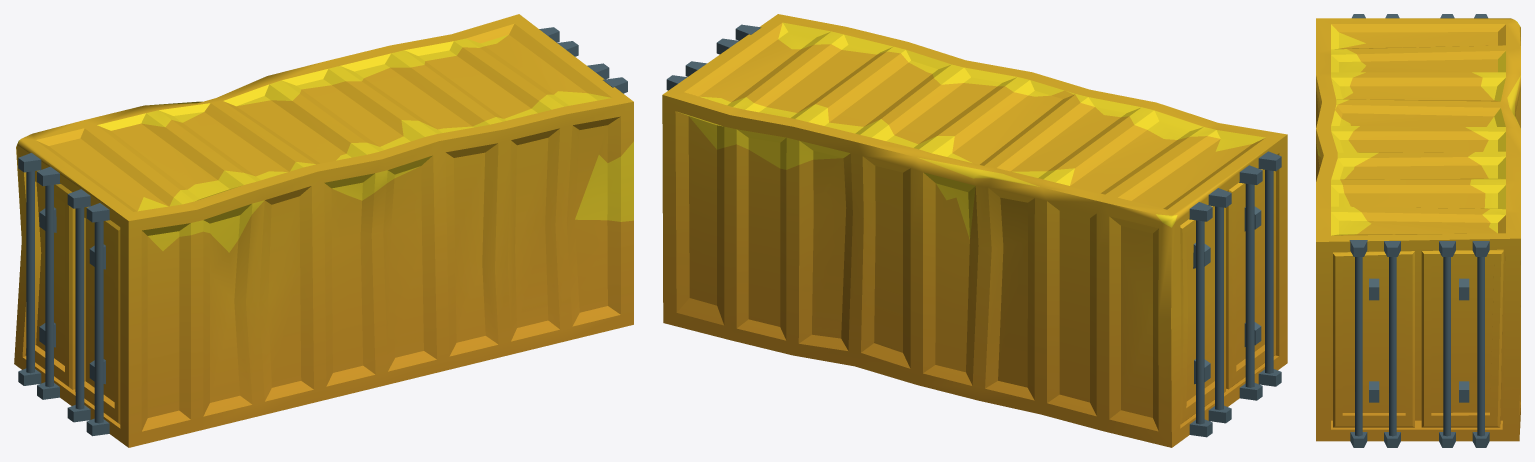
File: DC_Yellow.fbx
3 views of the same model, side by side, from view 1: azimuth 30°, elevation 25°; view 2: azimuth 150°, elevation 25°; view 3: azimuth 270°, elevation 25° (orthographic). The views are drawn at different scales.
Visible parts, largest first — view 1: DC_Yellow; view 2: DC_Yellow; view 3: DC_Yellow.
Boxes of the visible parts, bbox=[...] form: DC_Yellow: bbox=[14, 14, 633, 447]; DC_Yellow: bbox=[662, 14, 1287, 447]; DC_Yellow: bbox=[1316, 14, 1520, 447].
Size of the model in its own units: 648 by 262 by 240.
